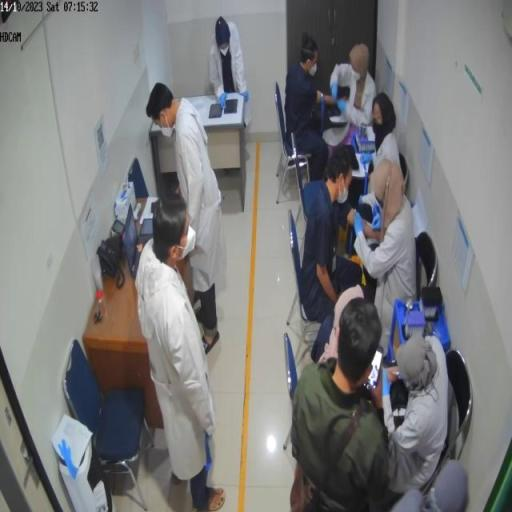person: (291, 290, 449, 510), (136, 194, 228, 509), (148, 84, 228, 356), (355, 158, 418, 344), (301, 146, 365, 327), (285, 35, 339, 182), (210, 17, 251, 124), (334, 43, 378, 130), (371, 92, 402, 180)
